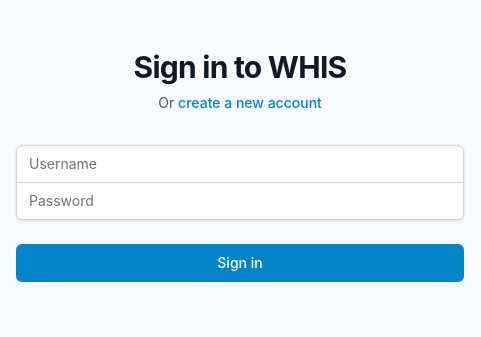
Login form › surfaces ApiError.detail as the server error banner
Step 1. Type "alice" into the field with placeholder "Username" → coordinates (240, 164), box [16,144,464,182]
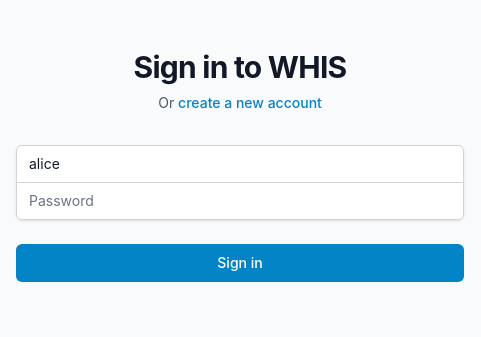
Step 2. Type "wrong" into the password field with placeholder "Password" → coordinates (240, 200), box [16,182,464,220]
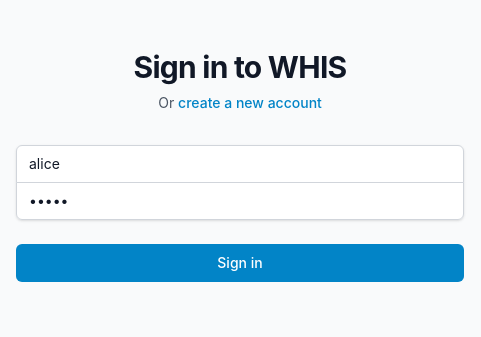
Step 3. Click the button "Sign in" → coordinates (240, 262), box [16,244,464,282]
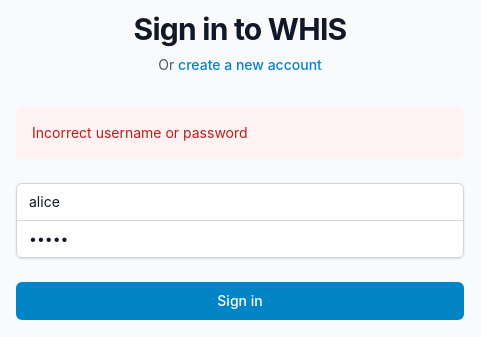
Now the message reads "Incorrect username or password", box [32,124,248,140]
